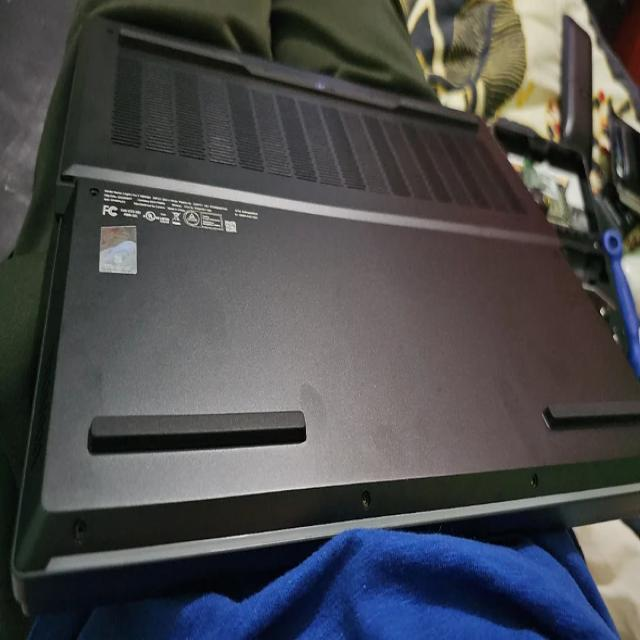other: (149, 258, 239, 356), (60, 249, 108, 418), (496, 360, 550, 472), (362, 417, 414, 488), (300, 370, 332, 448)
